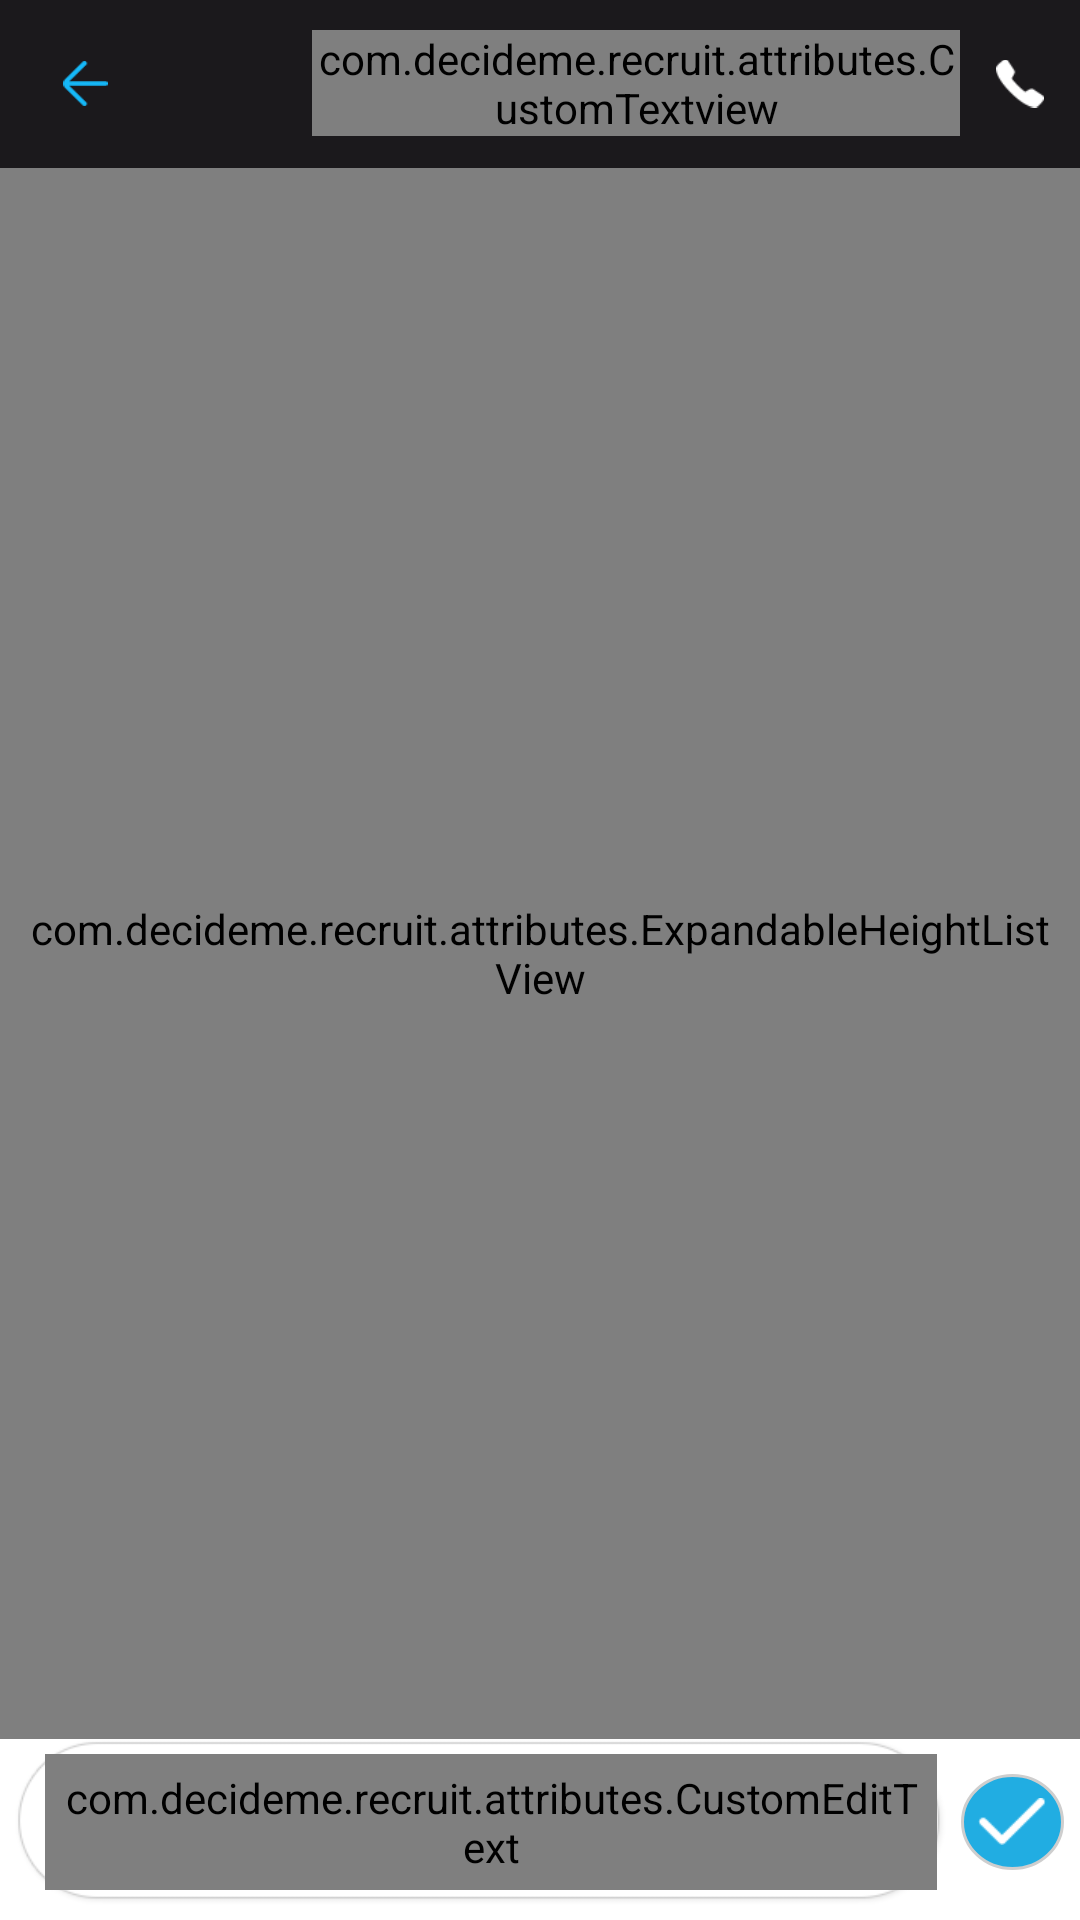

Named icons in this screenshot (1080px x 1920px) and their centers, (x=x, y=y):
back: (x=85, y=83)
call: (x=1020, y=84)
check: (x=1012, y=1821)
